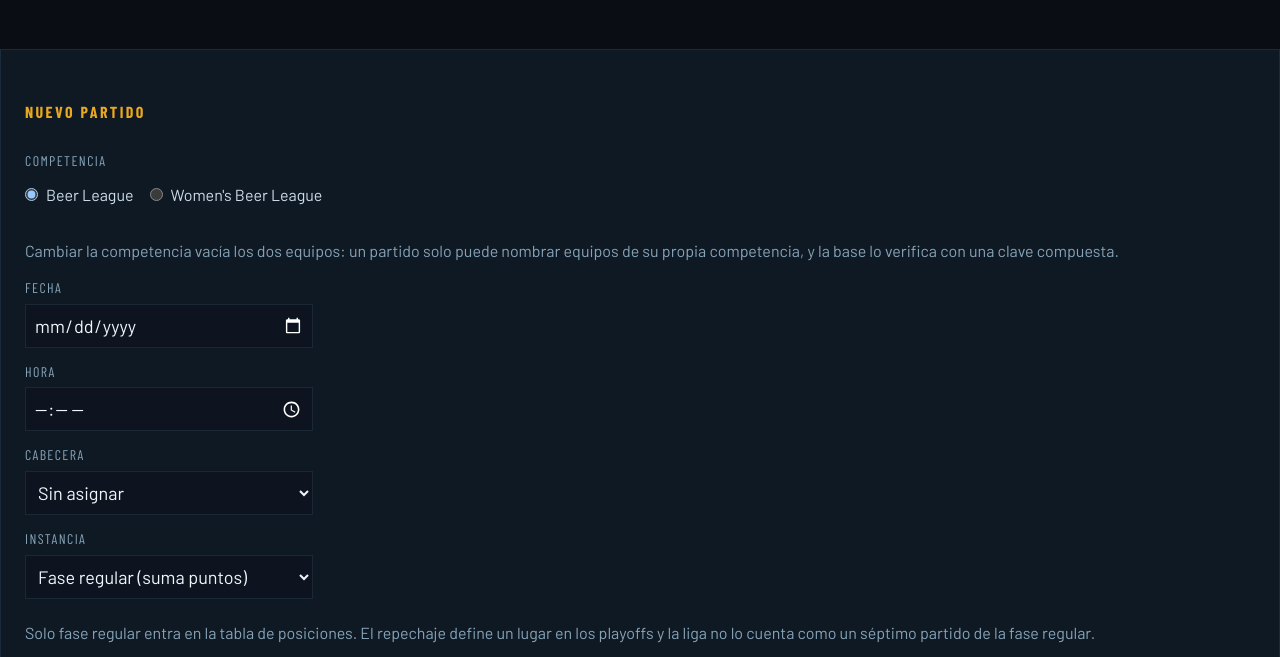
FixtureScreen › creates a match with its date, hour, cabecera, instance and two teams
(page scrolled)
Type "2026-05-23" into the date field labelled "Fecha". click: (169, 326)
box: [25, 304, 313, 348]
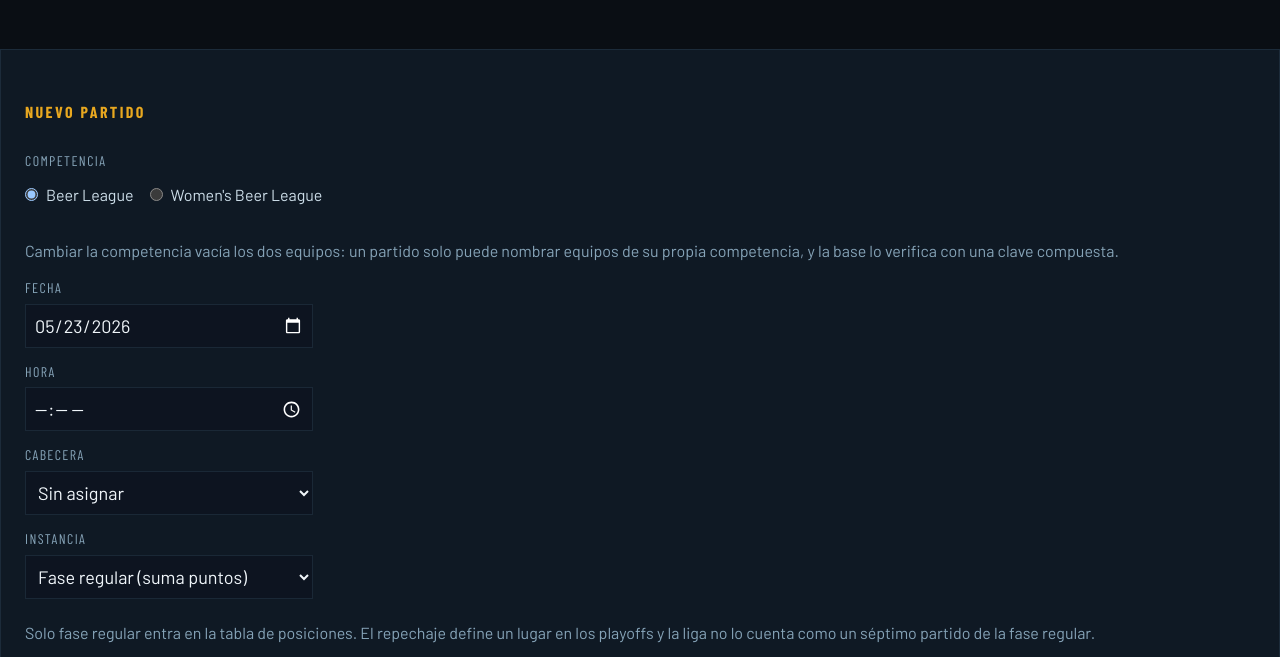
Type "22:30" into the time field labelled "Hora". click: (169, 410)
box: [25, 388, 313, 432]
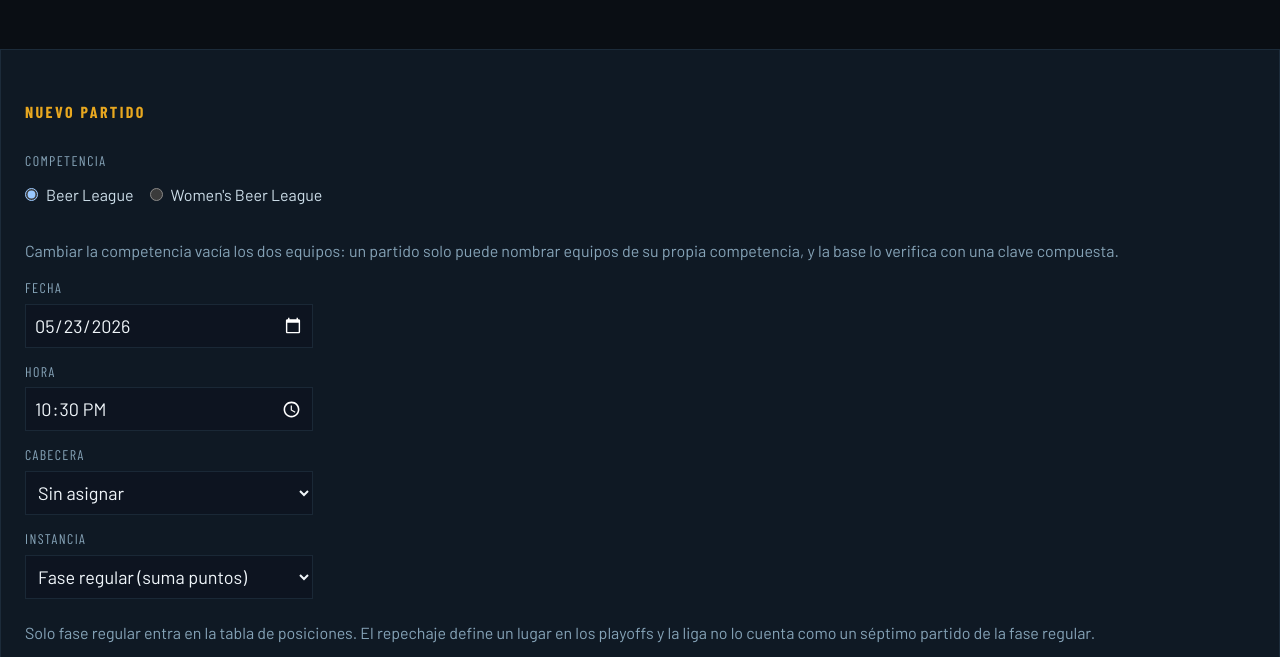
Select "Bahía" in the dropdown labelled "Cabecera". click: (169, 493)
box: [25, 471, 313, 515]
(page scrolled)
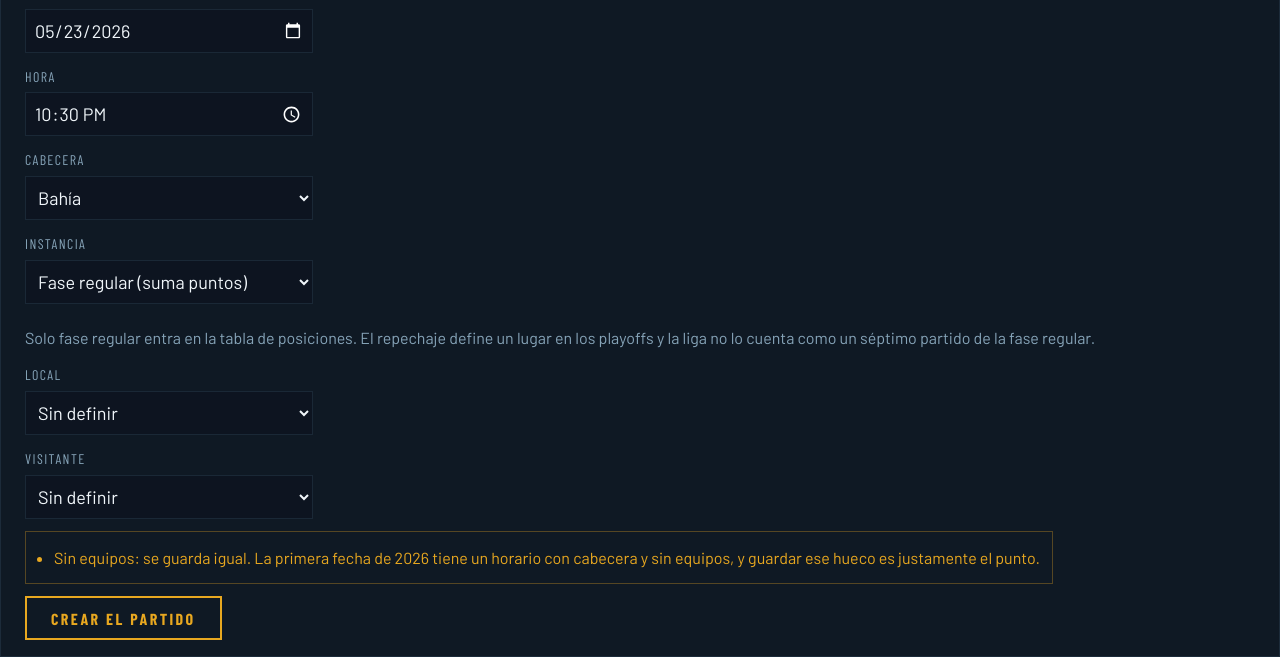
Select "Rock Choppers" in the dropdown labelled "Local". click: (169, 413)
box: [25, 391, 313, 435]
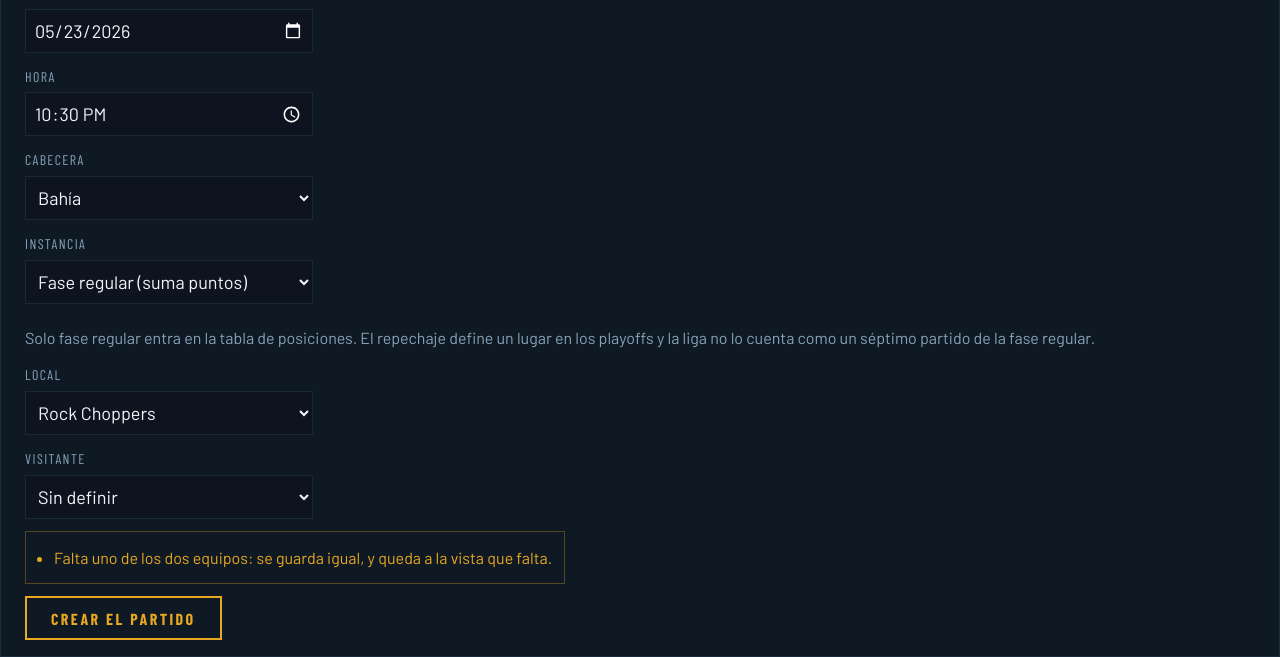
Select "Sucucho" in the dropdown labelled "Visitante". click: (169, 497)
box: [25, 475, 313, 519]
(page scrolled)
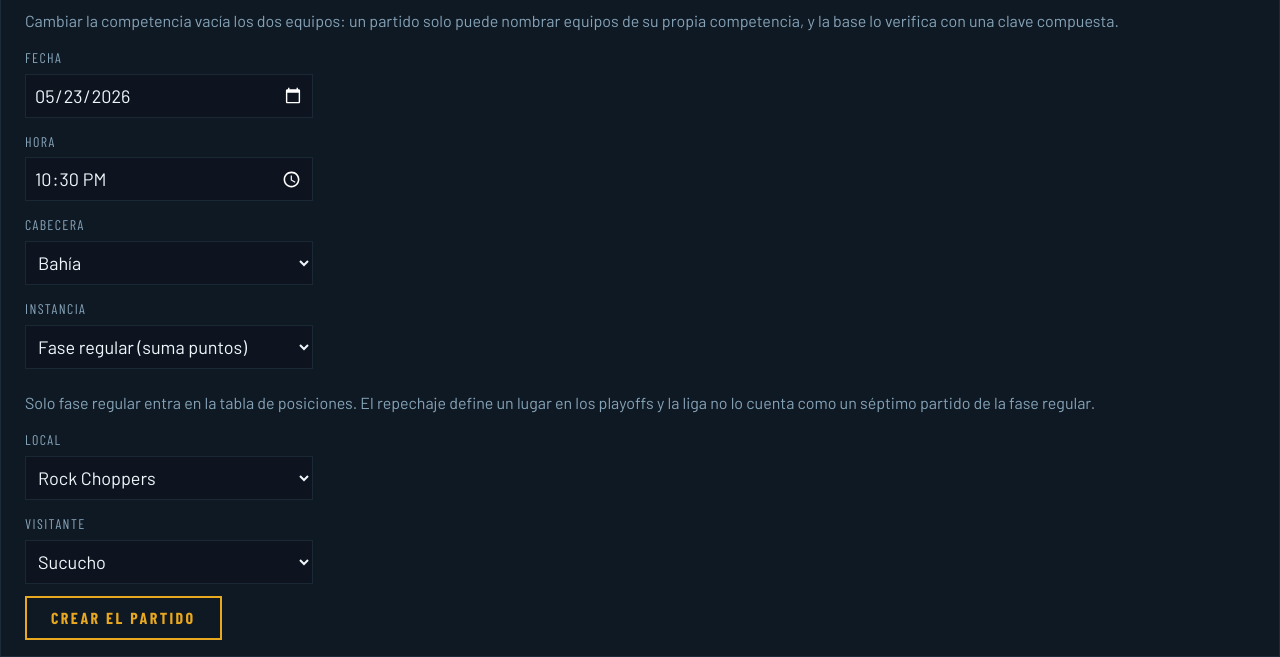
Click the button "Crear el partido". click: click(123, 618)
box: [25, 596, 222, 640]
(page scrolled)
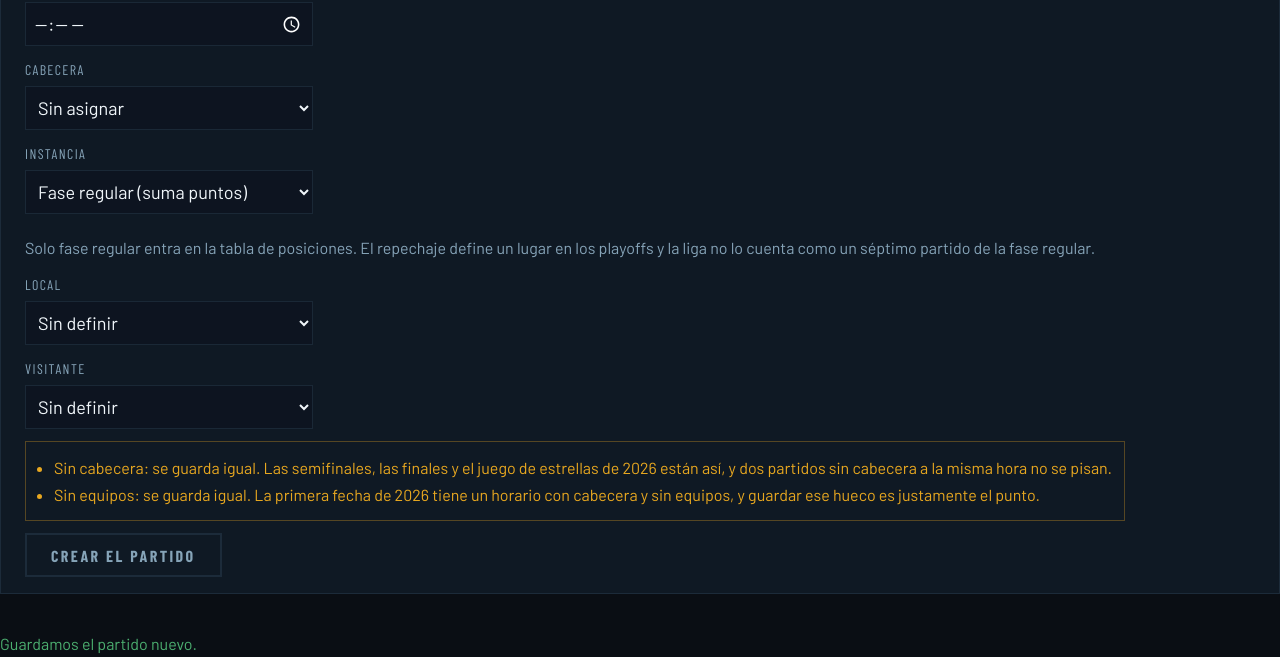
Expected: the message reads "Guardamos el partido nuevo.", [0, 634, 197, 653]
